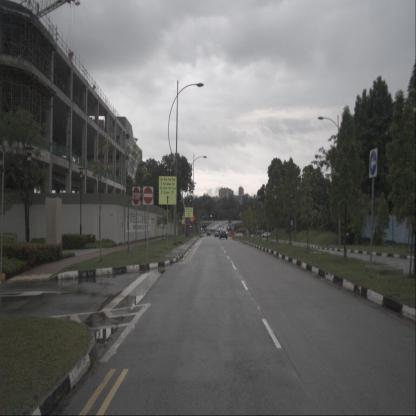vehicle-car: (219, 228, 228, 239), (261, 232, 270, 238), (214, 230, 219, 238)
